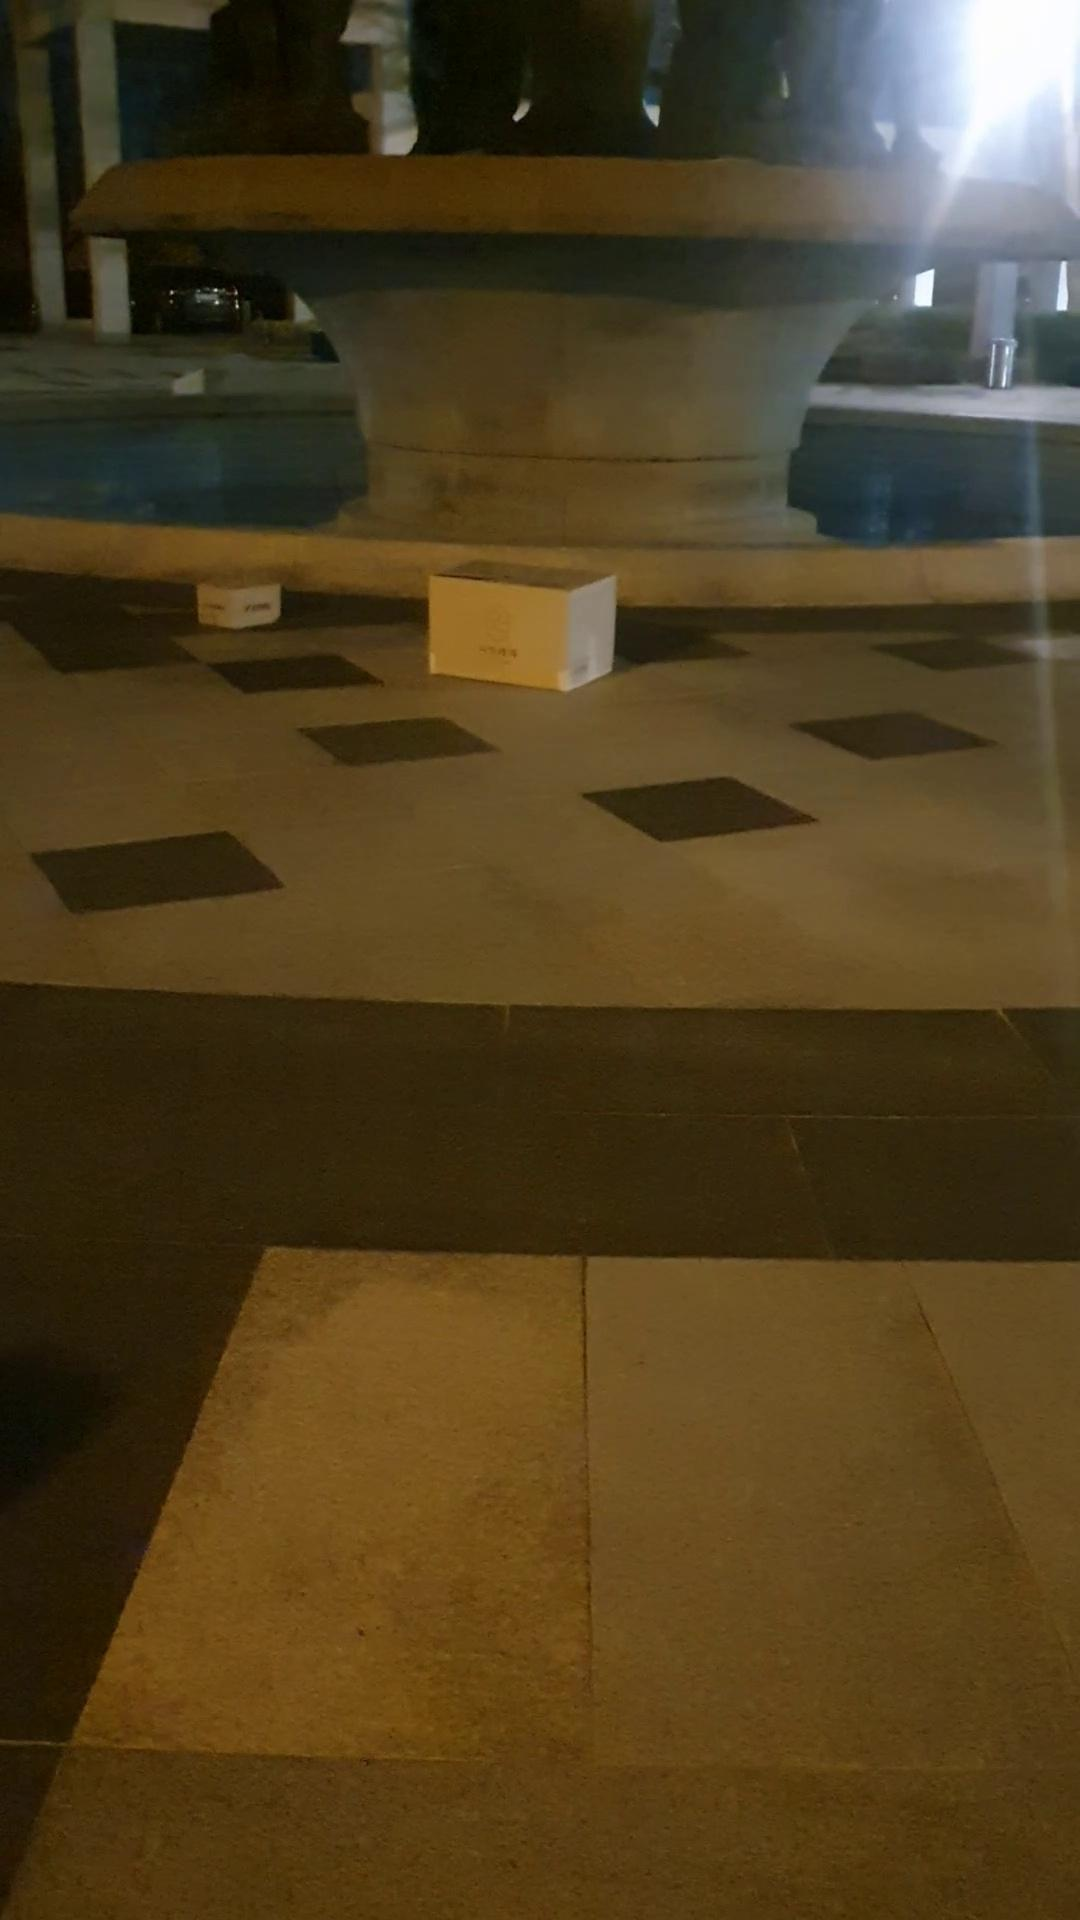Box: (421, 555, 620, 702), (178, 560, 276, 640)
